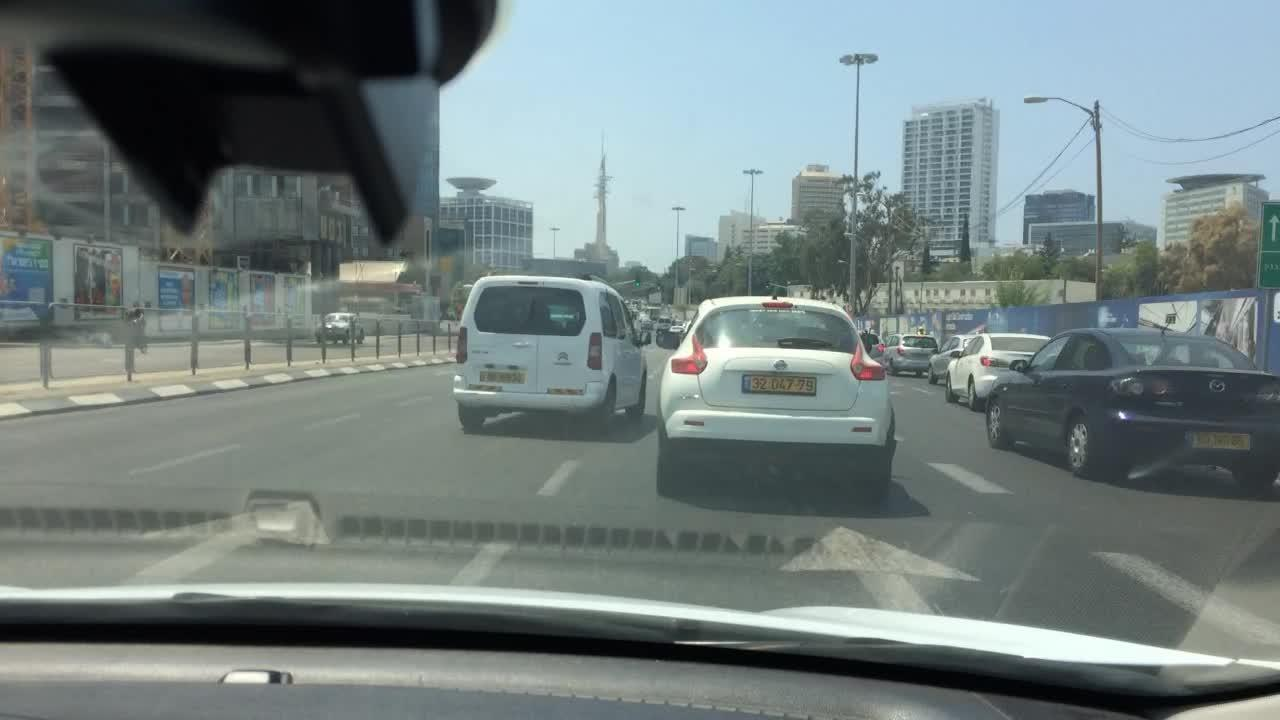Mazda: (1203, 374, 1229, 399)
Nissan: (773, 356, 794, 375)
